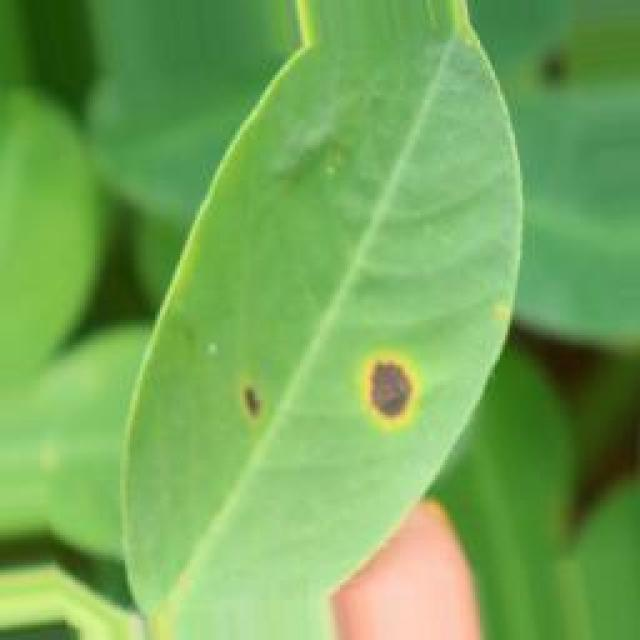Early_leaf_spot: (337, 317, 445, 433), (211, 367, 287, 423)
